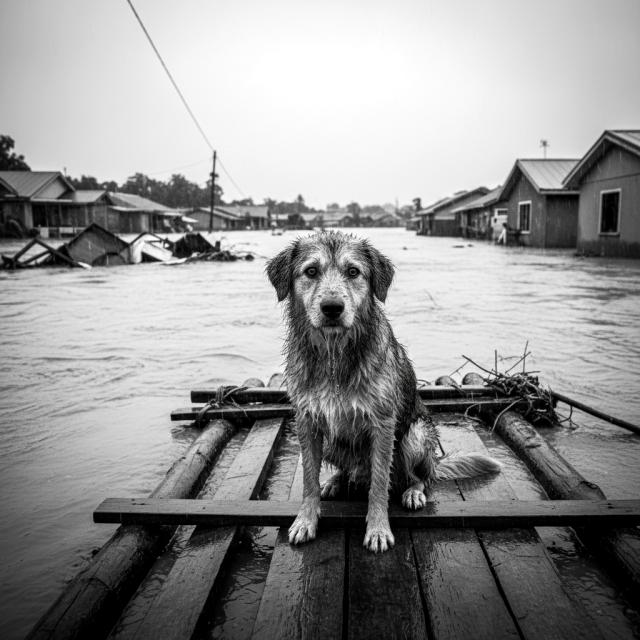dog: (233, 222, 517, 566)
